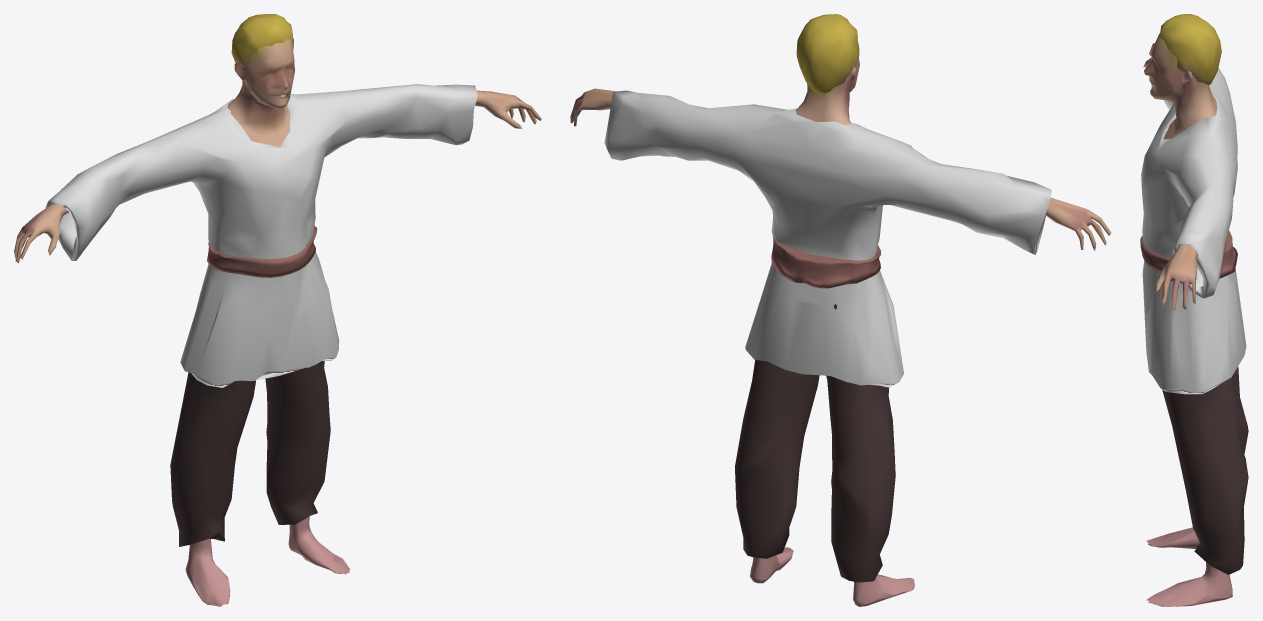
Rendered from Men.fbx.
3 renders of one model, left to right at view 1: azimuth 30°, elevation 25°; view 2: azimuth 150°, elevation 25°; view 3: azimuth 270°, elevation 25°, orthographic.
Visible parts, largest first — view 1: Merged_TPose1_male_zbrush1; view 2: Merged_TPose1_male_zbrush1; view 3: Merged_TPose1_male_zbrush1.
Boxes of the visible parts, x1,y1,x2,y2 form: Merged_TPose1_male_zbrush1: (14, 14, 541, 606); Merged_TPose1_male_zbrush1: (570, 14, 1111, 606); Merged_TPose1_male_zbrush1: (1140, 14, 1248, 606).
Size of the model in its own units: 280 by 285 by 50.23.
